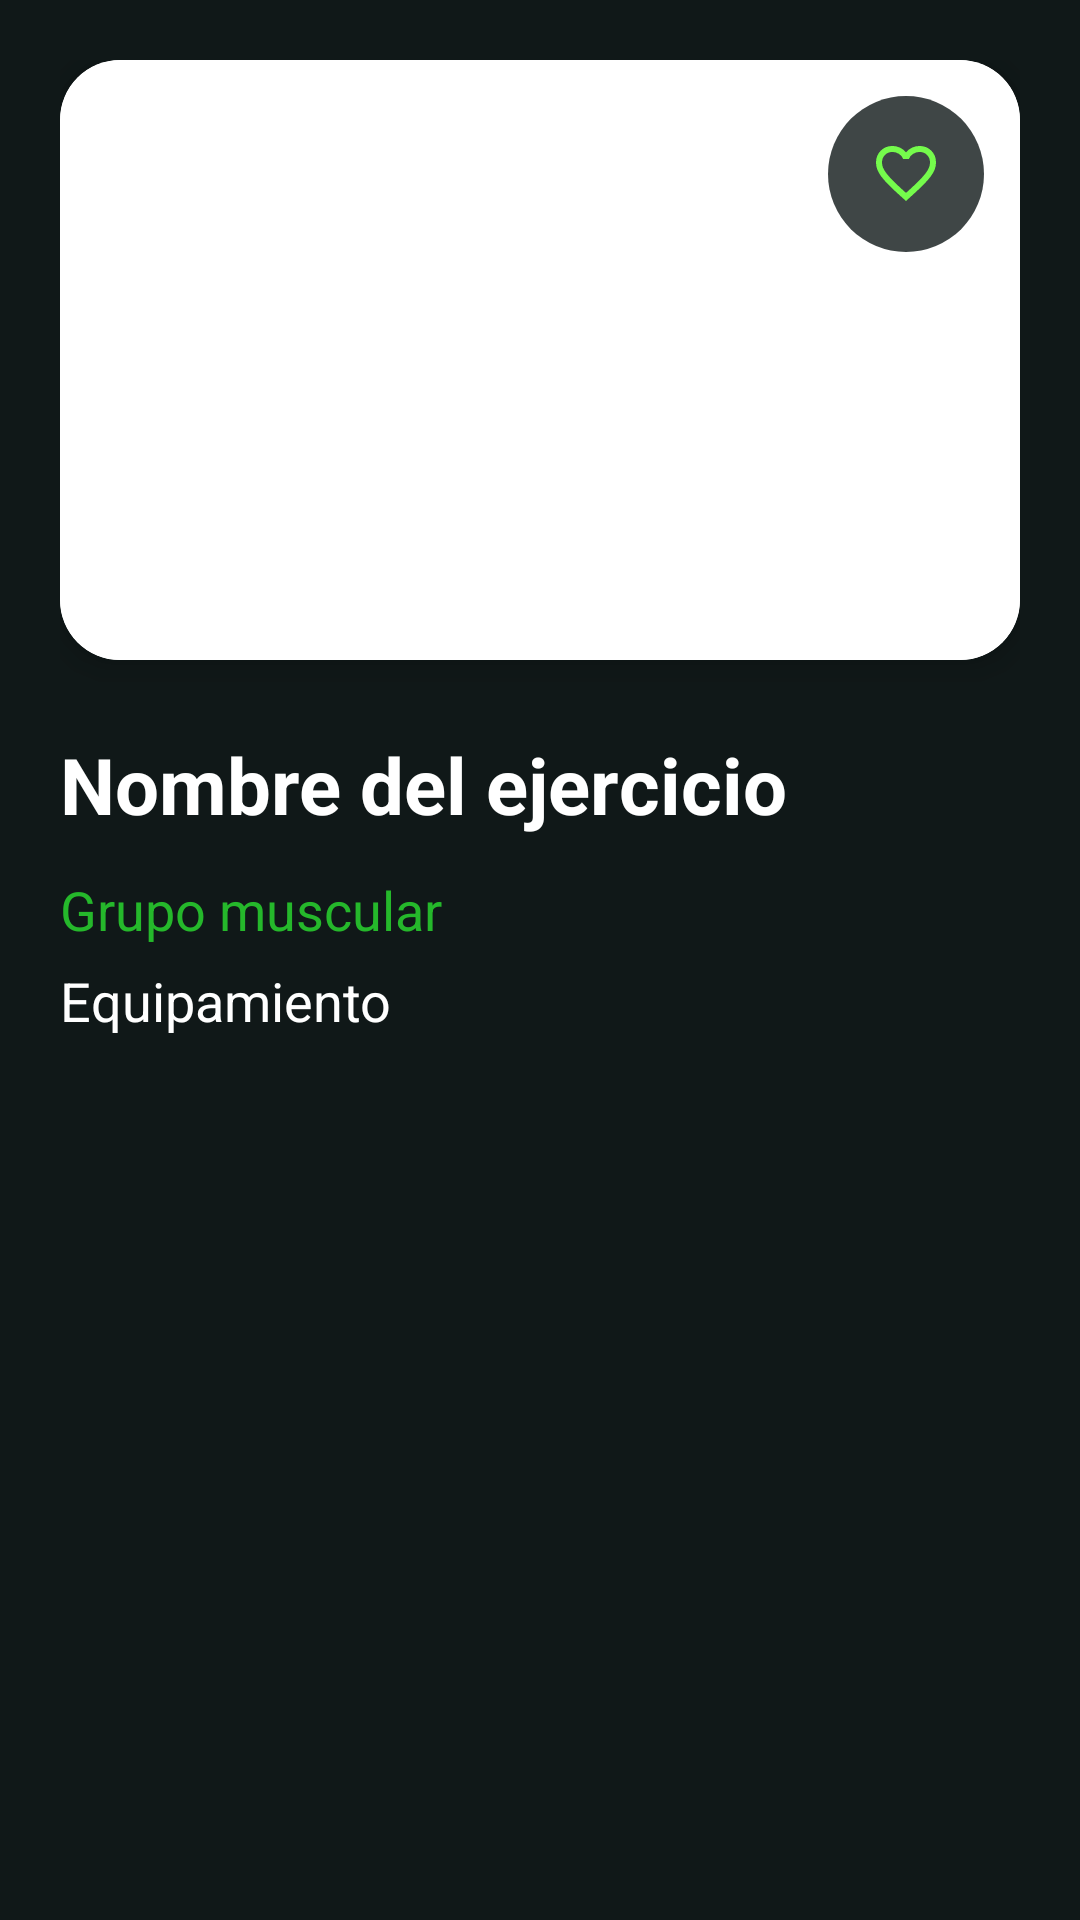

Icon click points for this 1080px x 1920px phone screenshot, format (x=x, y=y):
Favorito: (x=906, y=174)
